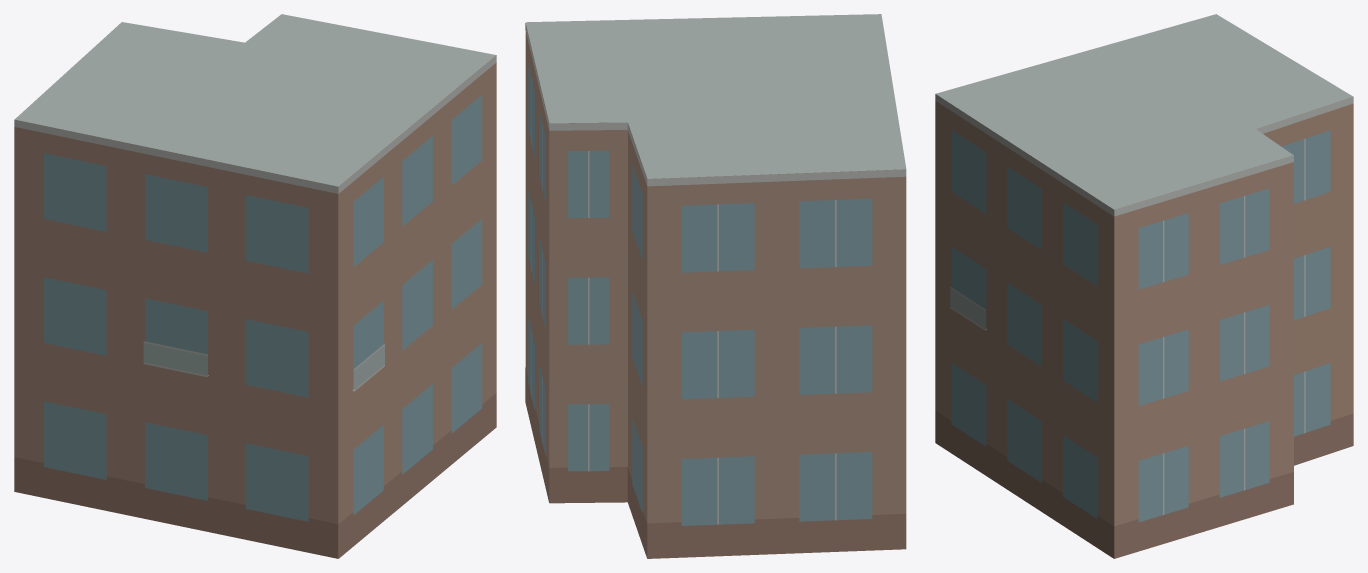
Rendered from survey-upis-32927608.glb.
3 renders of one model, left to right at view 1: azimuth 30°, elevation 25°; view 2: azimuth 150°, elevation 25°; view 3: azimuth 270°, elevation 25°, orthographic. The views are drawn at different scales.
Parts seen in each view (by area): view 1: survey-upis-32927608.tmp; view 2: survey-upis-32927608.tmp; view 3: survey-upis-32927608.tmp.
Part boxes in pixels (box(x1,y1,x2,y2)): survey-upis-32927608.tmp: box(14, 14, 496, 558); survey-upis-32927608.tmp: box(525, 14, 906, 558); survey-upis-32927608.tmp: box(935, 14, 1353, 558).
Bounding box in the file's own units: 15.04 × 12.5 × 13.58.
